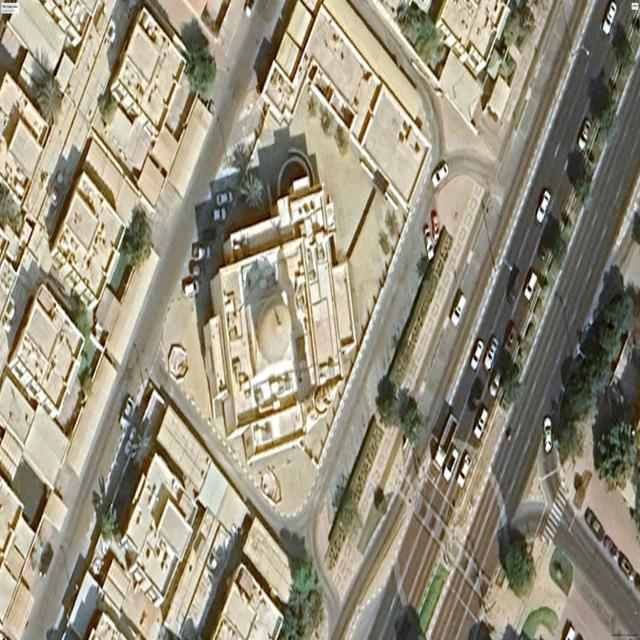mosque: (212, 177, 354, 462)
